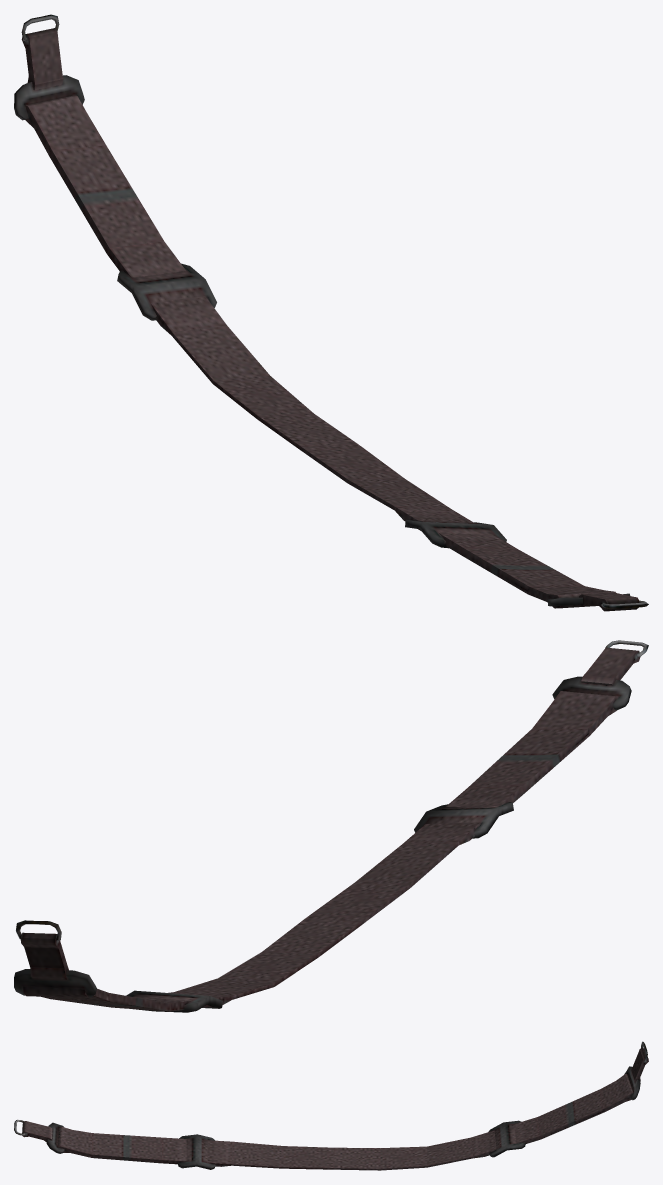
Rendered from Sling_Shotgun.fbx.
The picture shows the model from 3 angles, top to bottom: view 1: azimuth 30°, elevation 25°; view 2: azimuth 150°, elevation 25°; view 3: azimuth 270°, elevation 25°; orthographic projection. The views are drawn at different scales.
Parts seen in each view (by area): view 1: Sling_LP.001; view 2: Sling_LP.001; view 3: Sling_LP.001.
Boxes of the visible parts, x1,y1,x2,y2 form: Sling_LP.001: (14, 14, 648, 611); Sling_LP.001: (14, 640, 648, 1012); Sling_LP.001: (14, 1041, 648, 1170).
Size of the model in its own units: 0.0389 by 0.5165 by 0.1071.
